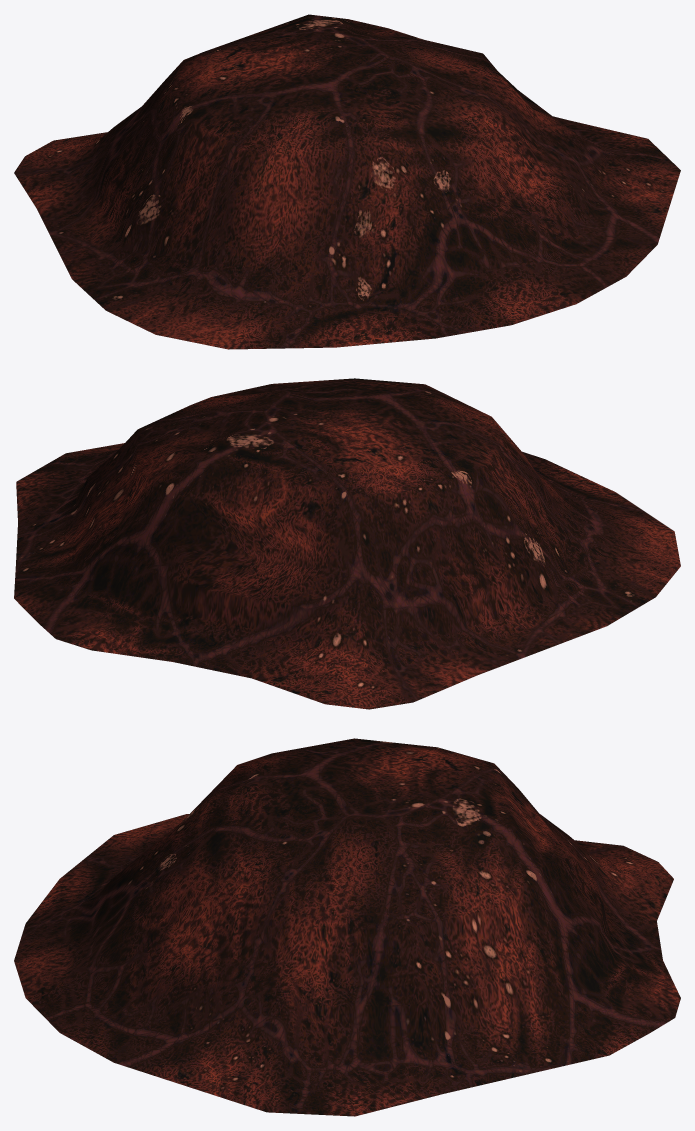
File: shadow_flesh_1_lopoly.dae
3 renders of one model, top to bottom at view 1: azimuth 30°, elevation 25°; view 2: azimuth 150°, elevation 25°; view 3: azimuth 270°, elevation 25°, orthographic. The views are drawn at different scales.
Visible parts, largest first — view 1: Mesh; view 2: Mesh; view 3: Mesh.
Part boxes in pixels (<box>): Mesh: <box>14,14,680,349</box>; Mesh: <box>14,378,680,709</box>; Mesh: <box>14,738,680,1116</box>.
Bounding box in the file's own units: 1.95 × 0.4863 × 1.78.
